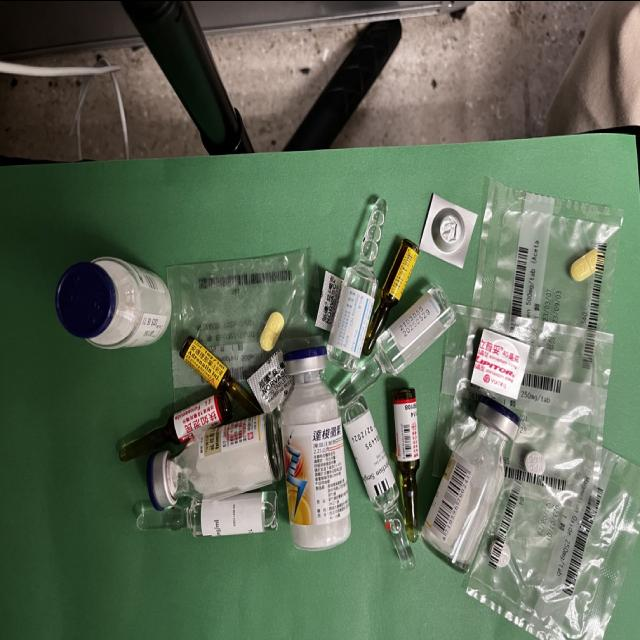Ampoules: (337, 285, 456, 406), (342, 395, 415, 568), (328, 197, 388, 369), (120, 389, 233, 460), (362, 237, 419, 353), (180, 335, 262, 414), (136, 490, 278, 535), (392, 388, 420, 541)
Vials: (422, 395, 521, 571), (281, 345, 350, 549), (148, 412, 284, 509), (56, 256, 172, 347)
